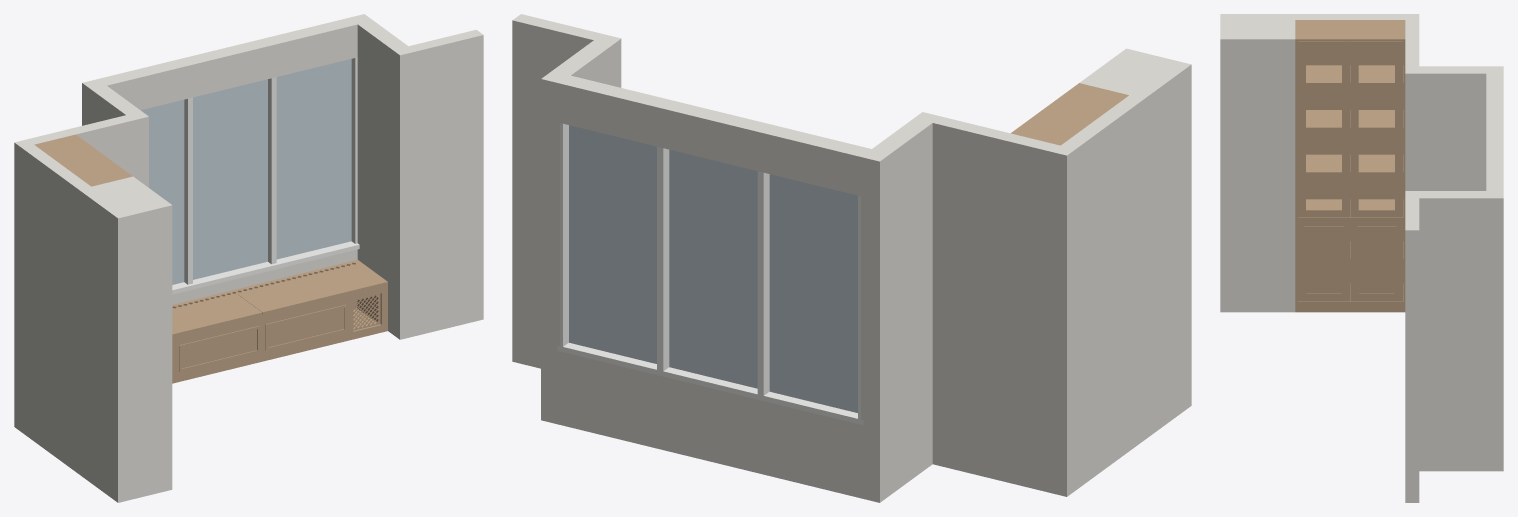
The model's file is window-seat-alcove-cabinet-east-finchley.glb.
3 views of the same model, side by side, from view 1: azimuth 30°, elevation 25°; view 2: azimuth 150°, elevation 25°; view 3: azimuth 270°, elevation 25° (orthographic). The views are drawn at different scales.
Visible parts, largest first — view 1: Room: Side wall, Room: Back wall, right of the bay, Room: Bay side, right, Room: Window 3, Room: Chimney breast, Room: Window 2, Room: Wall over the windows, Window seat: Front, with grille openings at each end, Room: Window 1, Window seat: Lid, right (hinged at the back), Room: Bay side, left, Room: Back wall, left of the bay (+11 smaller); view 2: Room: Side wall, Room: Back wall, left of the bay, Room: Bay side, left, Room: Bay wall under the windows, Room: Window 1, Room: Window 2, Room: Window 3, Room: Wall over the windows, Room: Back wall, right of the bay, Room: Bay side, right, Room: Window sill, Alcove cabinet: Top (+4 smaller); view 3: Room: Bay side, right, Room: Chimney breast, Room: Bay side, left, Alcove cabinet: Back, 18 mm, Room: Back wall, right of the bay, Alcove cabinet: Door, bottom left (hinged left), Alcove cabinet: Door, bottom right (hinged right), Alcove cabinet: Door, top left (framed, hinged left), Alcove cabinet: Door, top right (framed, hinged right), Alcove cabinet: Top, Room: Wall over the windows, Alcove cabinet: Shelf 1 (+11 smaller).
Boxes of the visible parts, x1,y1,x2,y2 form: Room: Side wall: (14, 139, 130, 502); Room: Back wall, right of the bay: (409, 29, 483, 335); Room: Bay side, right: (349, 14, 415, 339); Room: Window 3: (276, 59, 351, 259); Room: Chimney breast: (92, 176, 172, 499); Room: Window 2: (193, 79, 267, 279); Room: Wall over the windows: (98, 18, 357, 110); Window seat: Front, with grille openings at each end: (172, 284, 387, 383); Room: Window 1: (141, 99, 184, 284); Window seat: Lid, right (hinged at the back): (238, 264, 387, 314); Room: Bay side, left: (82, 79, 148, 187); Room: Back wall, left of the bay: (27, 115, 133, 175); Room: Side wall: (1052, 61, 1191, 496); Room: Back wall, left of the bay: (932, 116, 1059, 493); Room: Bay side, left: (861, 112, 940, 502); Room: Bay wall under the windows: (560, 351, 860, 498); Room: Window 1: (769, 174, 857, 412); Room: Window 2: (669, 149, 757, 388); Room: Window 3: (569, 125, 656, 363); Room: Wall over the windows: (560, 75, 871, 196); Room: Back wall, right of the bay: (512, 14, 601, 368); Room: Bay side, right: (541, 34, 621, 424); Room: Window sill: (557, 343, 863, 425); Alcove cabinet: Top: (1012, 84, 1125, 143); Room: Bay side, right: (1405, 191, 1503, 471); Room: Chimney breast: (1220, 20, 1295, 312); Room: Bay side, left: (1405, 66, 1503, 190); Alcove cabinet: Back, 18 mm: (1297, 20, 1403, 282); Room: Back wall, right of the bay: (1405, 198, 1419, 502); Alcove cabinet: Door, bottom left (hinged left): (1297, 220, 1350, 301); Alcove cabinet: Door, bottom right (hinged right): (1350, 220, 1402, 301); Alcove cabinet: Door, top left (framed, hinged left): (1297, 41, 1350, 217); Alcove cabinet: Door, top right (framed, hinged right): (1350, 41, 1402, 217); Alcove cabinet: Top: (1297, 20, 1403, 41); Room: Wall over the windows: (1486, 73, 1503, 190); Alcove cabinet: Shelf 1: (1306, 154, 1403, 174).
Size of the model in its own units: 4.42 by 2.6 by 2.45.
